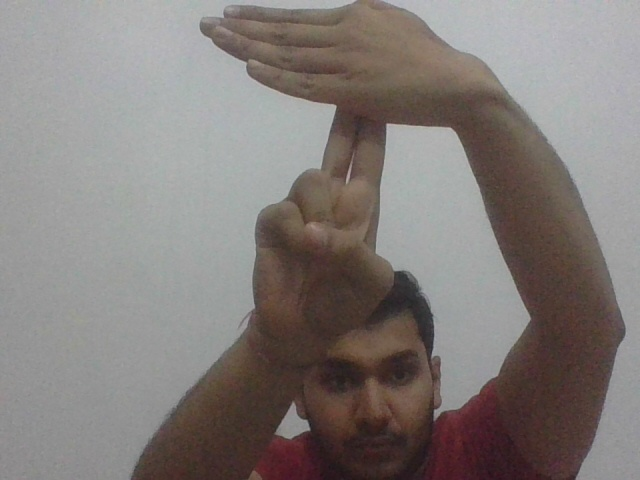N: (190, 1, 452, 183)
